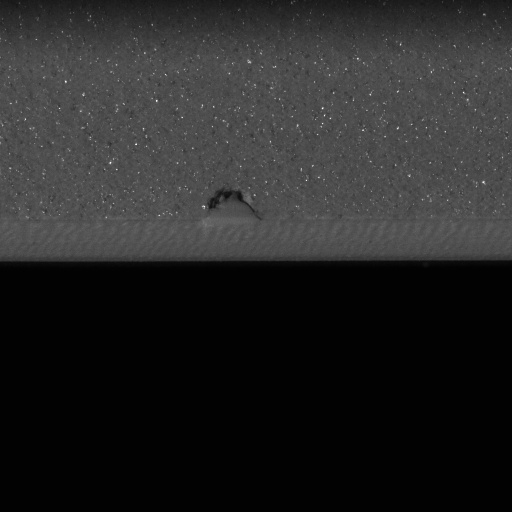bengque: (206, 187, 251, 212)
